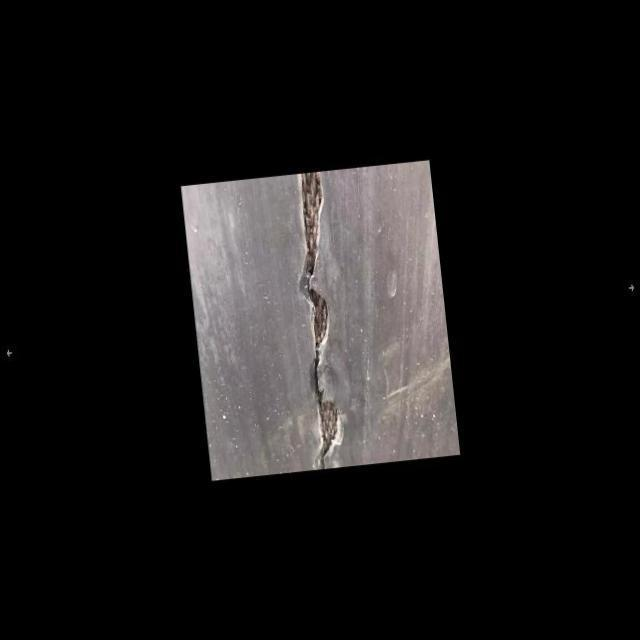Tear: (294, 170, 348, 470)
